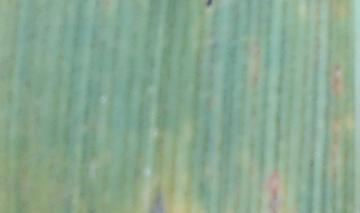tarspot: (145, 186, 166, 213), (269, 179, 280, 202), (331, 60, 341, 73), (203, 1, 212, 10)
